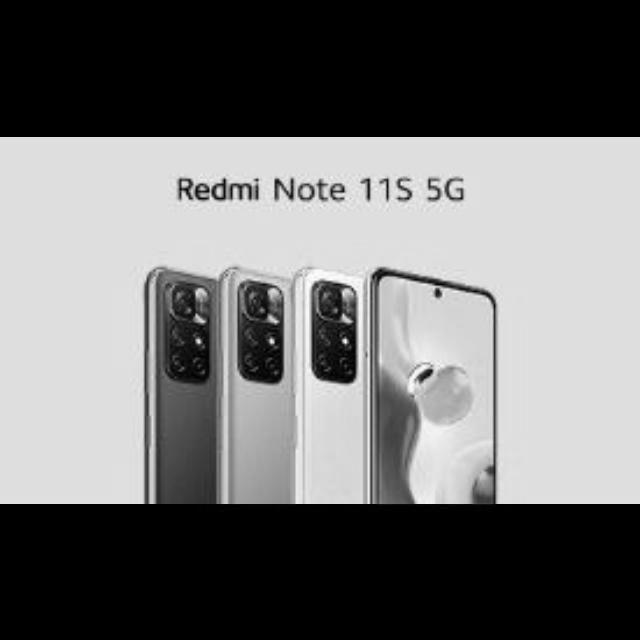fake: (338, 248, 522, 497)
